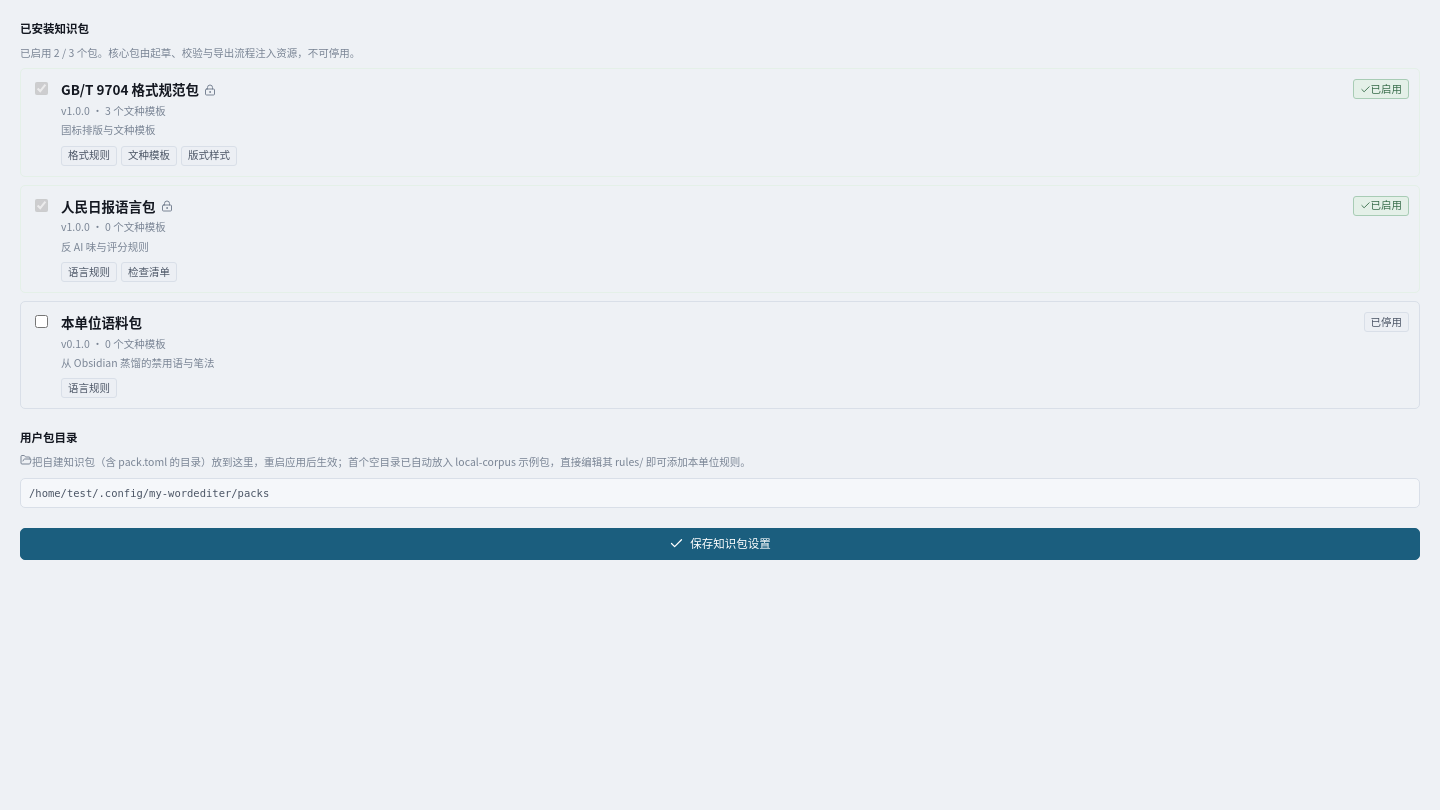
Scenario: PackSettings › saves a toggled custom pack with the new active ids
Click the checkbox labelled "本单位语料包 v0.1.0 · 0 个文种模板 从 Obsidian 蒸馏的禁用语与笔法 语言规则 已停用" at {"x": 42, "y": 322}, box [35,315,48,328]
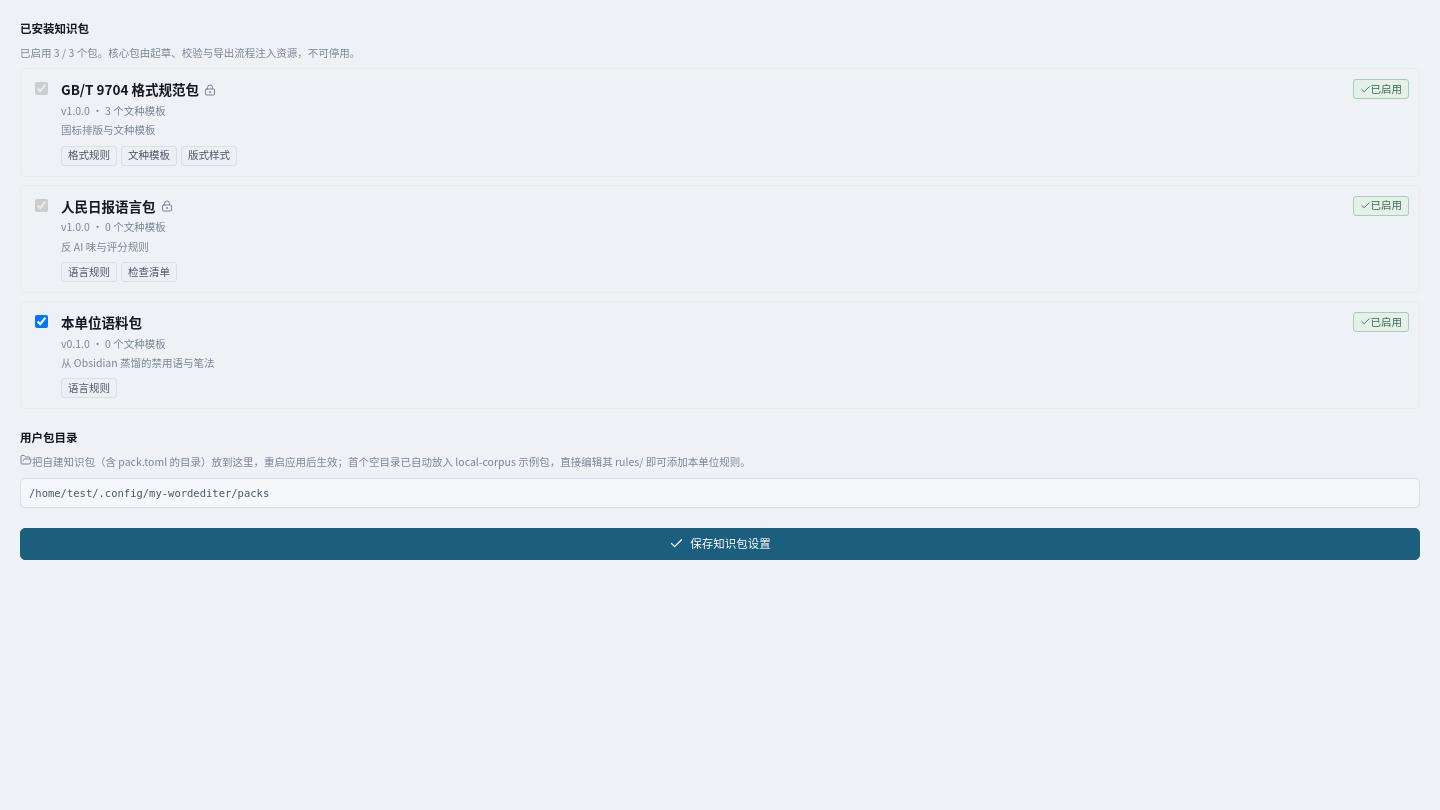
Click the button "保存知识包设置" at {"x": 720, "y": 544}, box [20,528,1420,560]
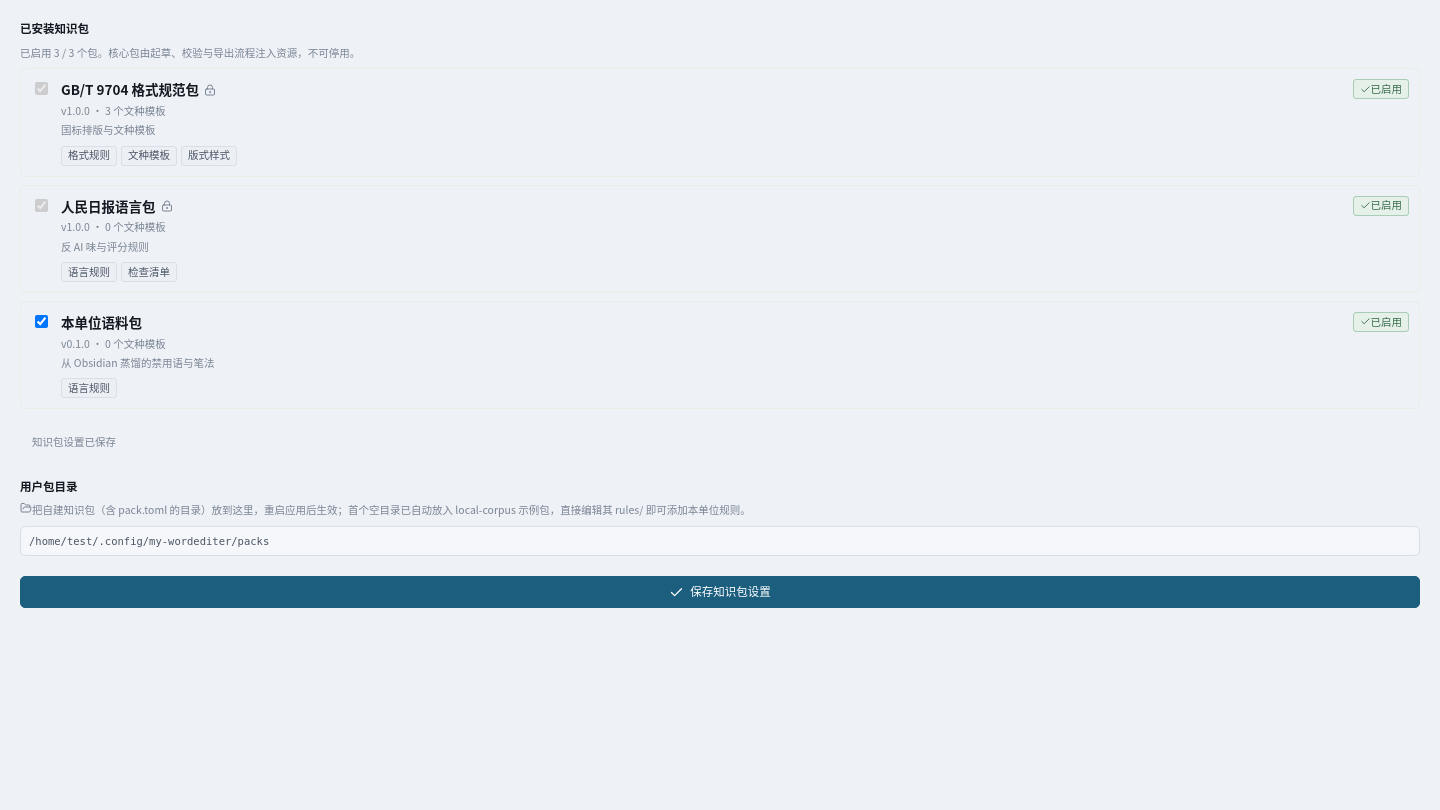
Expected: the text "知识包设置已保存" is shown, [32,434,116,449]
